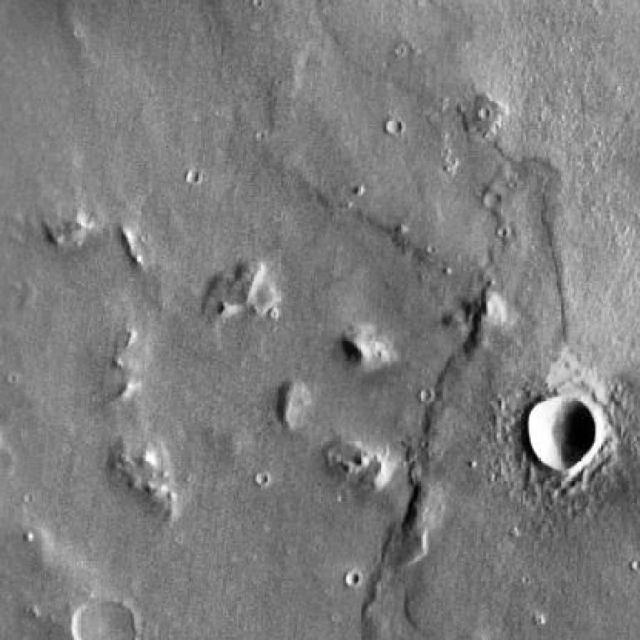crater: (527, 394, 598, 466), (63, 592, 131, 640)
